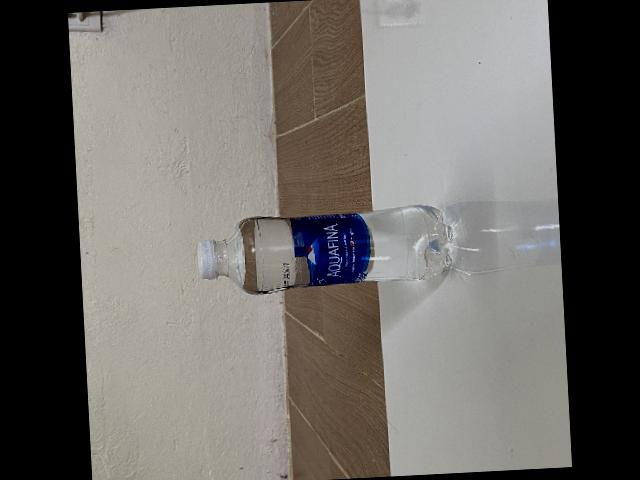aquafina: (198, 203, 460, 294)
